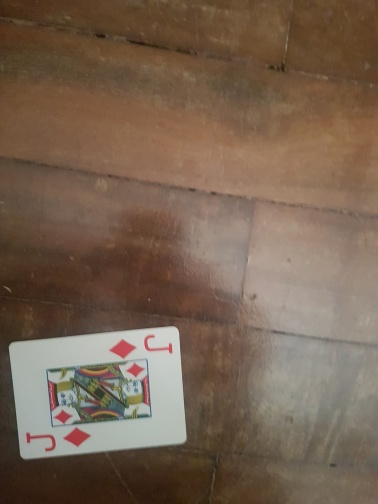jack: (7, 327, 187, 460)
